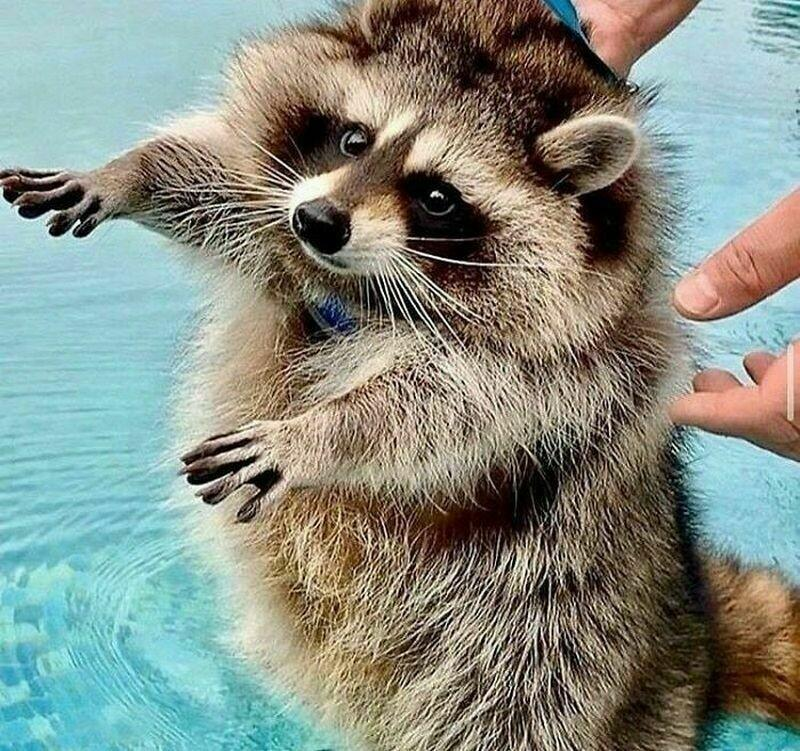raccoon: (4, 0, 800, 751)
